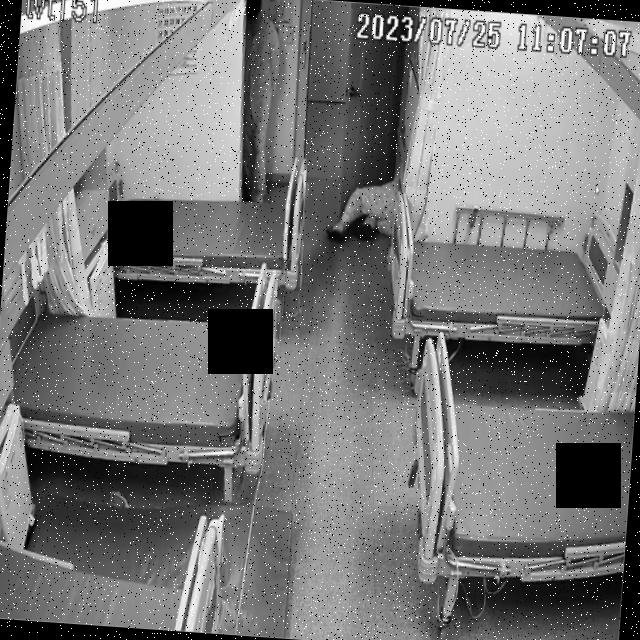bed: (402, 331, 639, 591), (5, 296, 278, 466), (381, 218, 623, 352), (108, 178, 303, 289)
fall: (328, 165, 402, 252)
patient: (235, 0, 283, 201), (328, 164, 403, 250)
